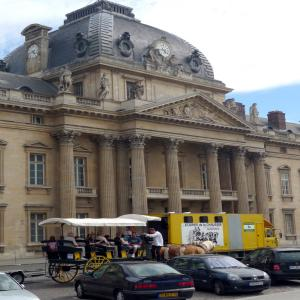Vehicle-registration-plate: (249, 283, 265, 287), (291, 266, 300, 269)
